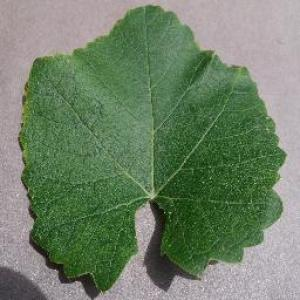Folha: (18, 2, 287, 293)
